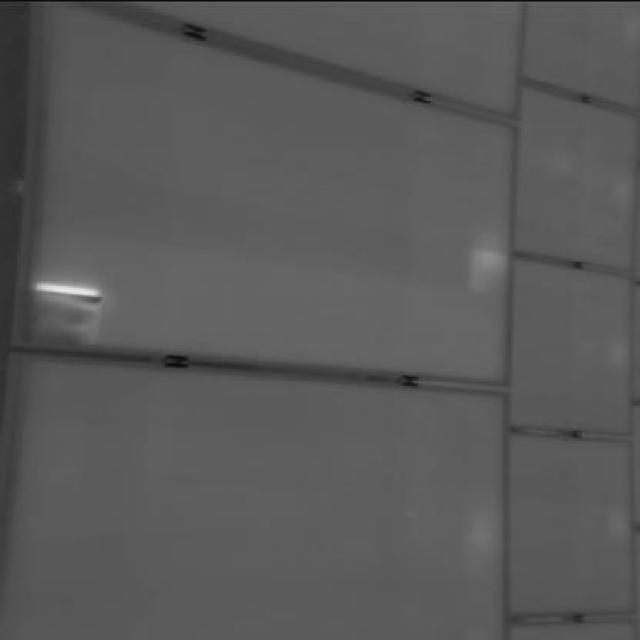hotspot: (24, 274, 111, 351)
